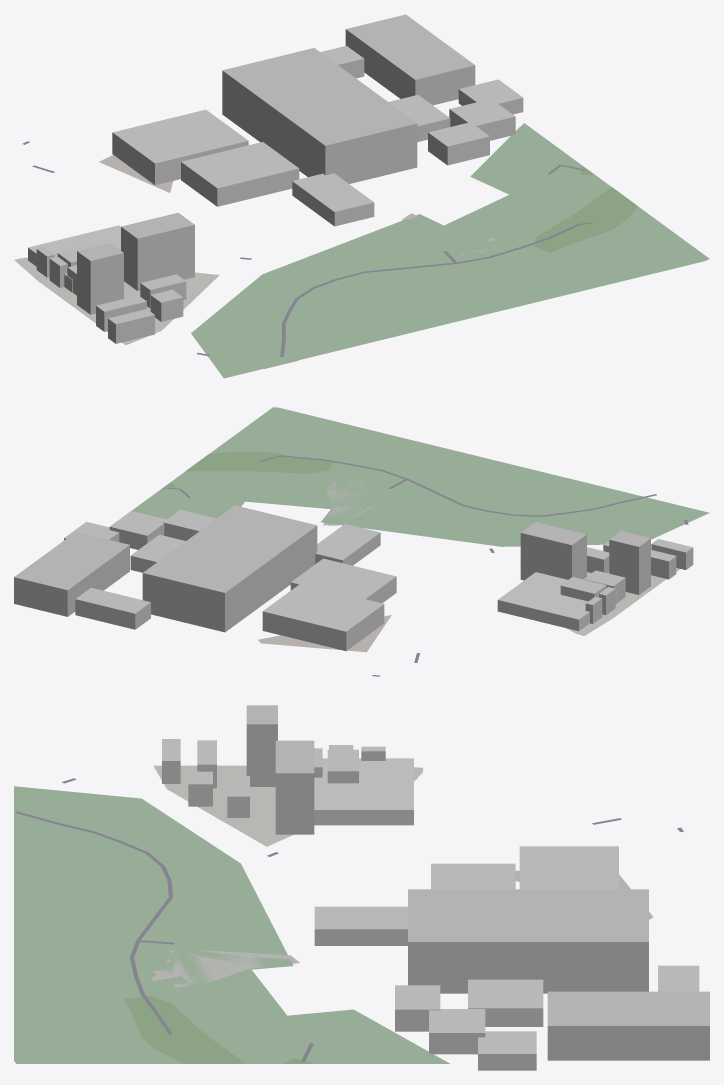
The model's file is 116_80_mid.glb.
The picture shows the model from 3 angles, top to bottom: view 1: azimuth 30°, elevation 25°; view 2: azimuth 150°, elevation 25°; view 3: azimuth 270°, elevation 25°; orthographic projection. The views are drawn at different scales.
Size of the model in its own units: 516 by 49.13 by 491.
